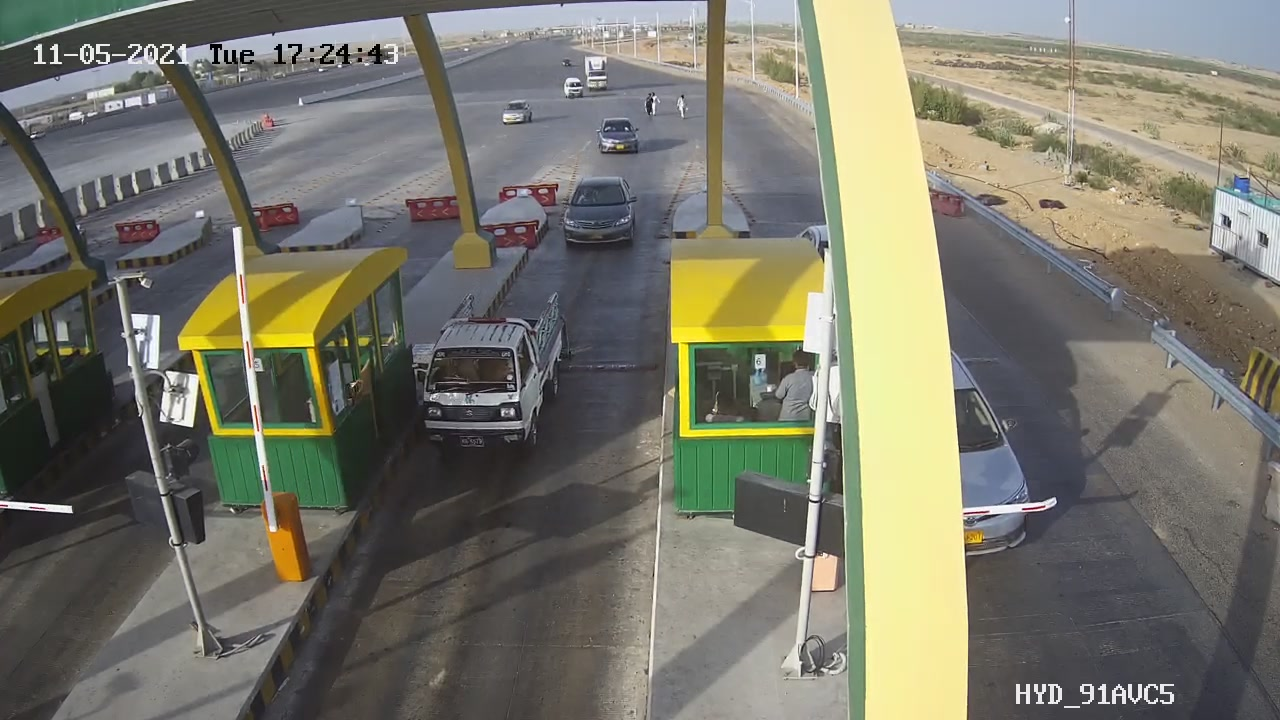F1: (395, 277, 573, 469)
